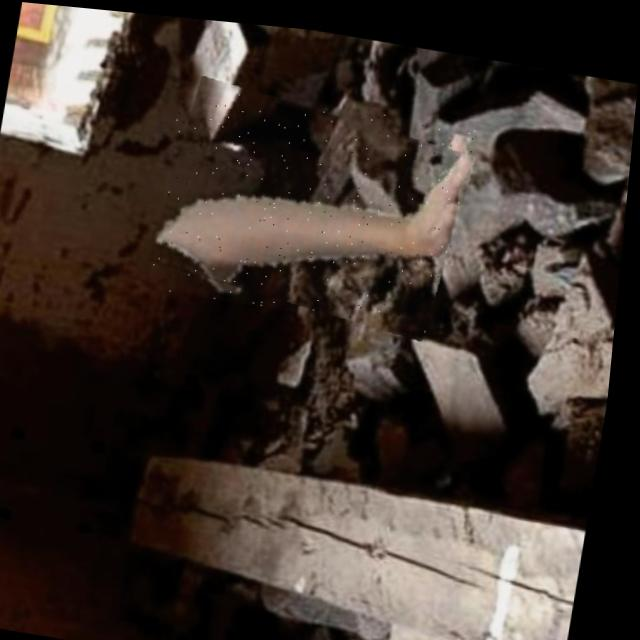Person in Rubble: (152, 74, 478, 327)
